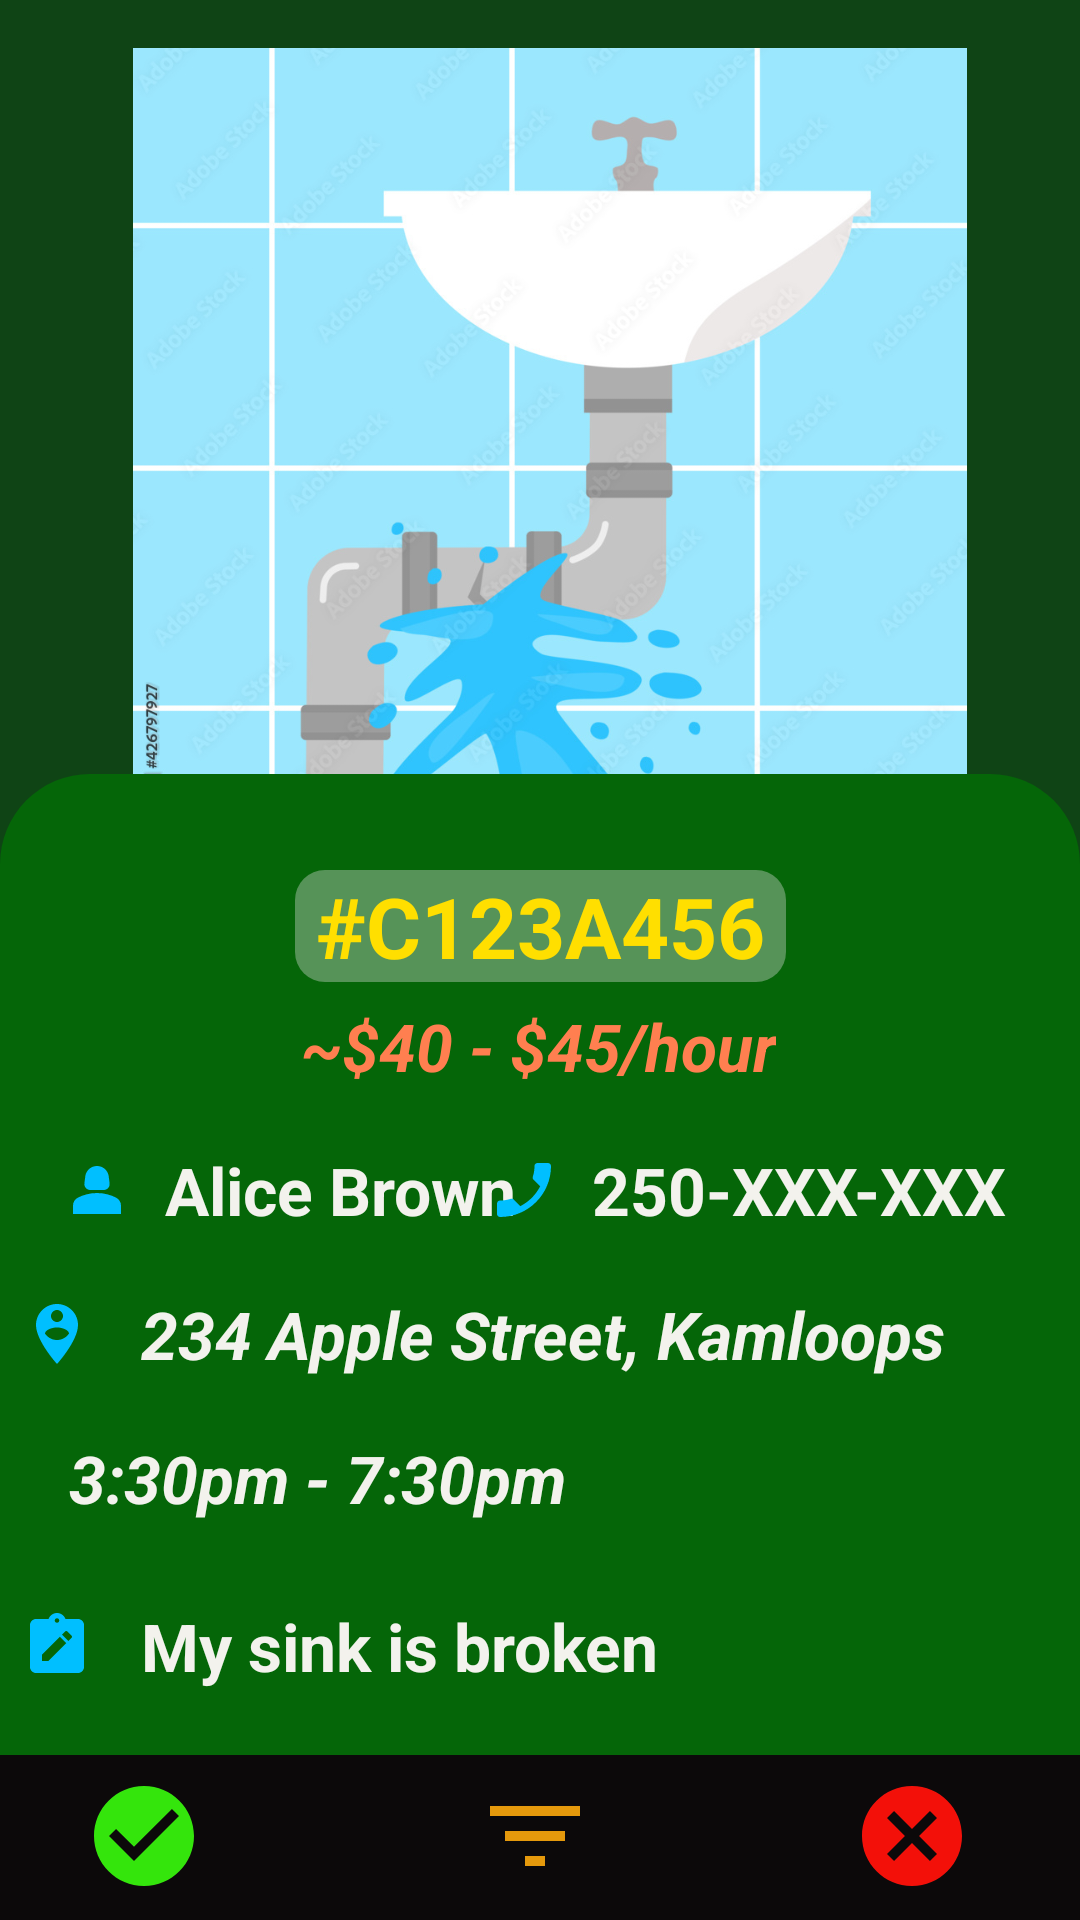

Named icons in this screenshot (1080px×1920px) and their bounding boxes, BBox(x1, y1, x2, y2):
accept: BBox(94, 1786, 194, 1886)
cancel: BBox(862, 1786, 962, 1886)
filter: BBox(490, 1806, 580, 1866)
